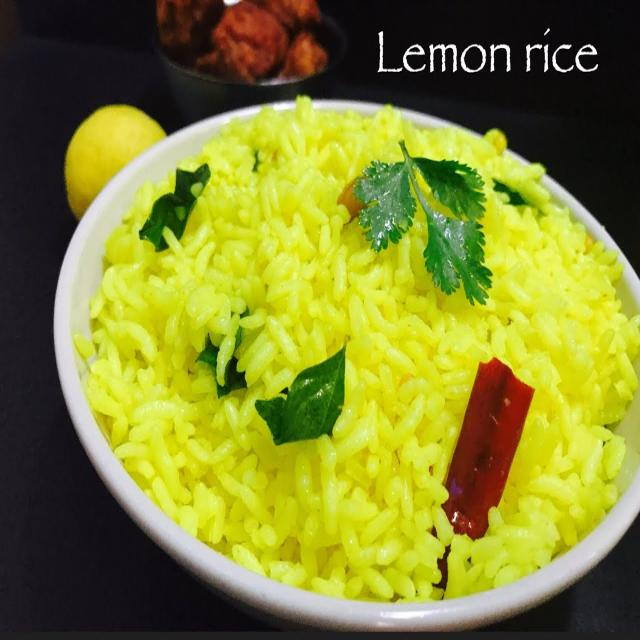lemon rice: (69, 78, 640, 633)
